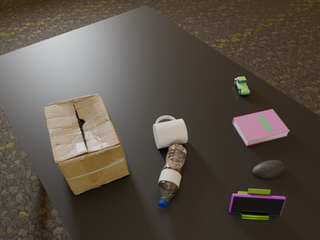book: (232, 109, 289, 146)
bottle: (157, 143, 187, 208)
box: (44, 94, 129, 195)
cup: (153, 116, 188, 149)
mouse: (252, 160, 286, 179)
phone: (229, 194, 286, 216)
toy_car: (234, 77, 250, 94)
